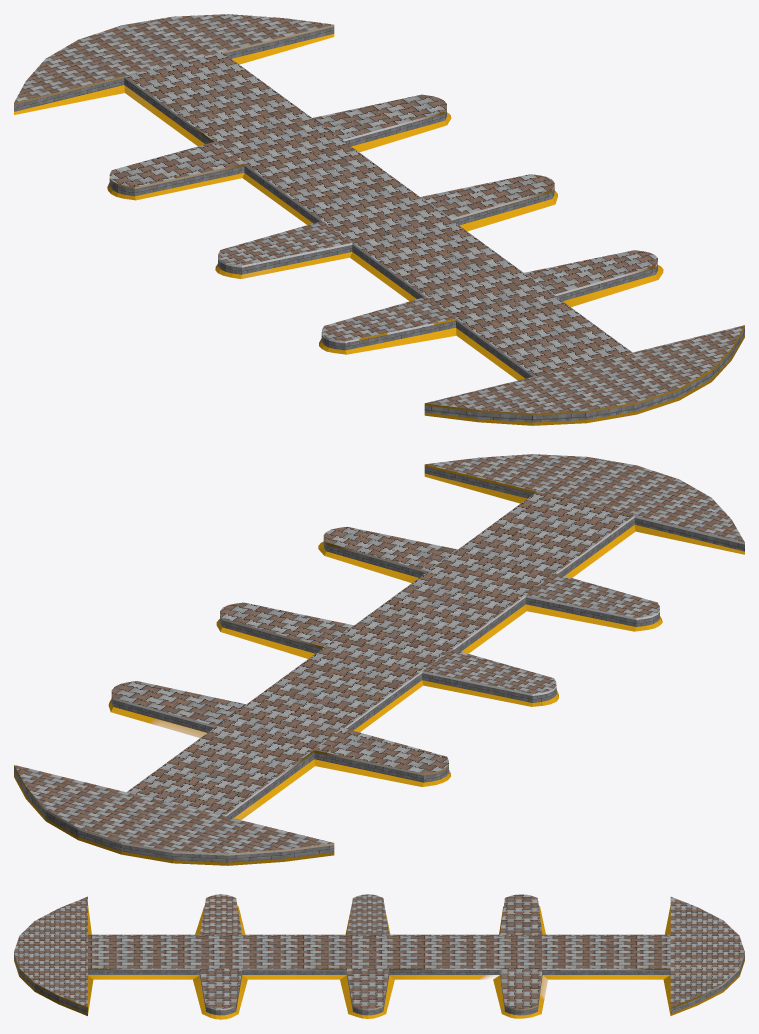
The model's file is parking_lot_2.fbx.
The picture shows the model from 3 angles, top to bottom: view 1: azimuth 30°, elevation 25°; view 2: azimuth 150°, elevation 25°; view 3: azimuth 270°, elevation 25°; orthographic projection. The views are drawn at different scales.
Parts seen in each view (by area): view 1: parking_lot_2; view 2: parking_lot_2; view 3: parking_lot_2.
Boxes of the visible parts, x1=… form: parking_lot_2: x1=14, y1=14, x2=744, y2=425; parking_lot_2: x1=14, y1=454, x2=744, y2=865; parking_lot_2: x1=14, y1=894, x2=744, y2=1019.
Bounding box in the file's own units: 75.46 × 2.62 × 198.
